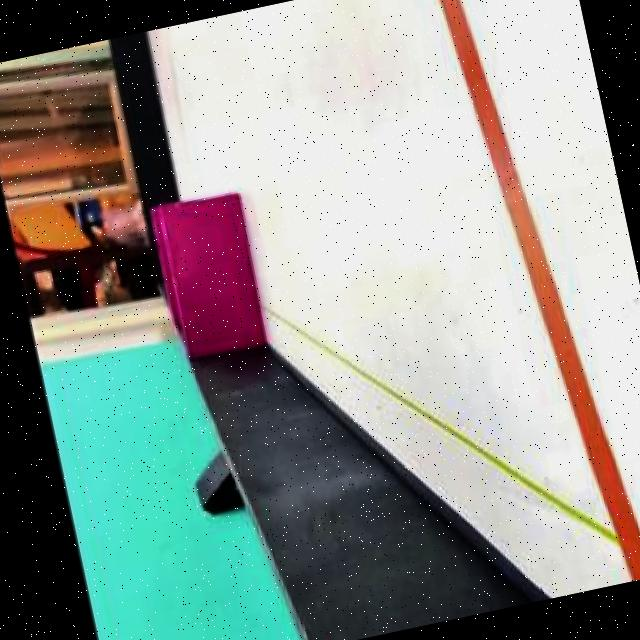xparking: (161, 190, 266, 350)
